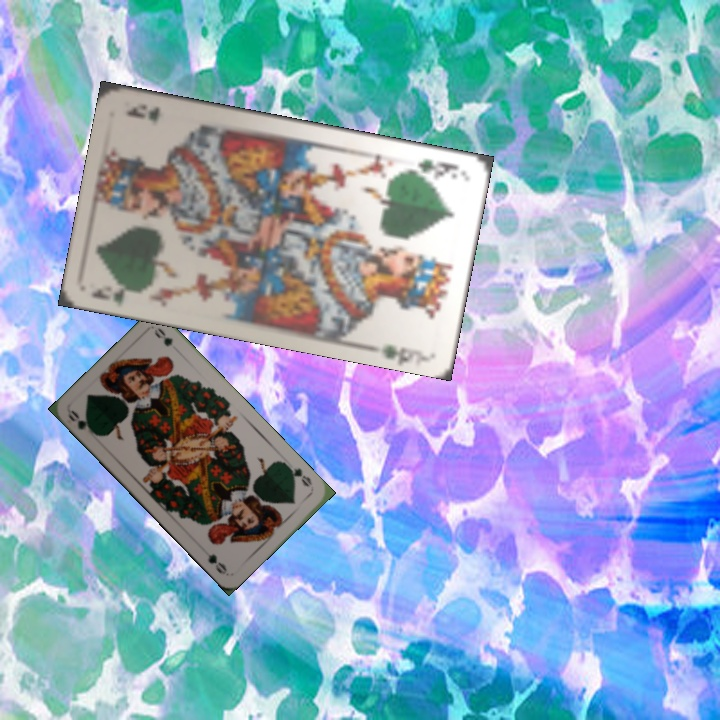GK: (87, 280, 146, 308), (404, 154, 462, 182)
GO: (64, 406, 100, 438), (283, 461, 315, 489)
